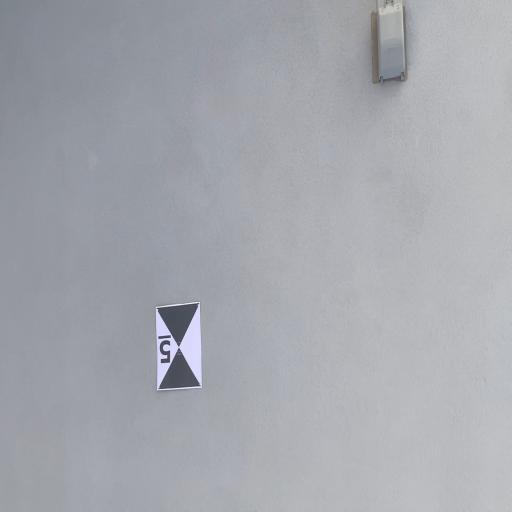target5: (156, 303, 202, 393)
